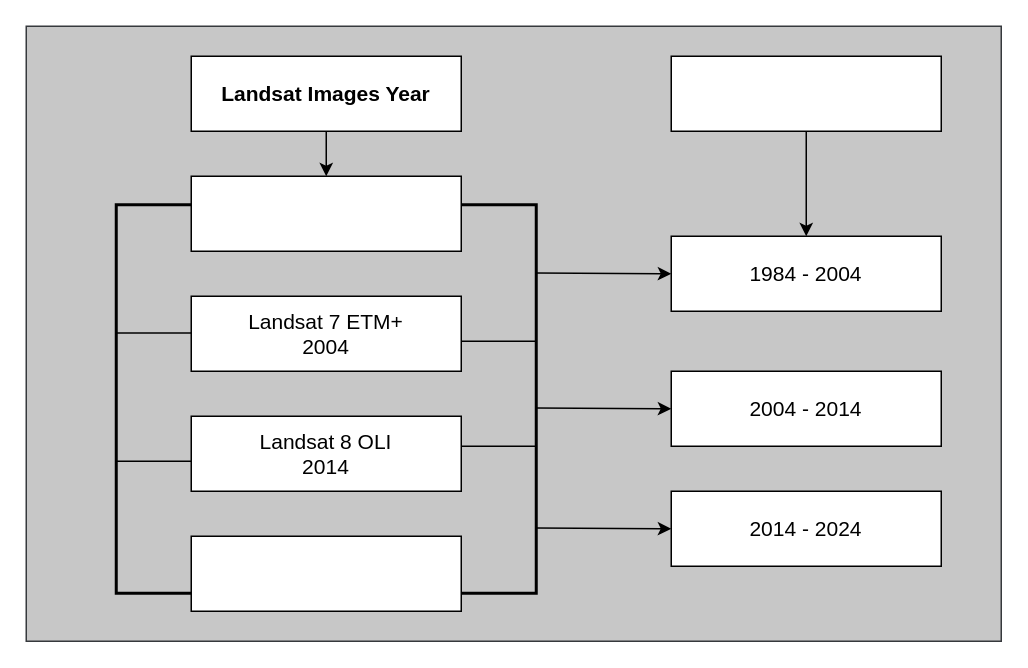
Image size: 1028x668. Some labels were removed from this diagram. The box of each missing label's shape, as (x1, y1, x2, y2) in pixels:
Change Decade: (670, 55, 941, 131)
Landsat 5 TM 1984: (190, 175, 461, 251)
Landsat 8 OLI 2024: (190, 535, 461, 611)
